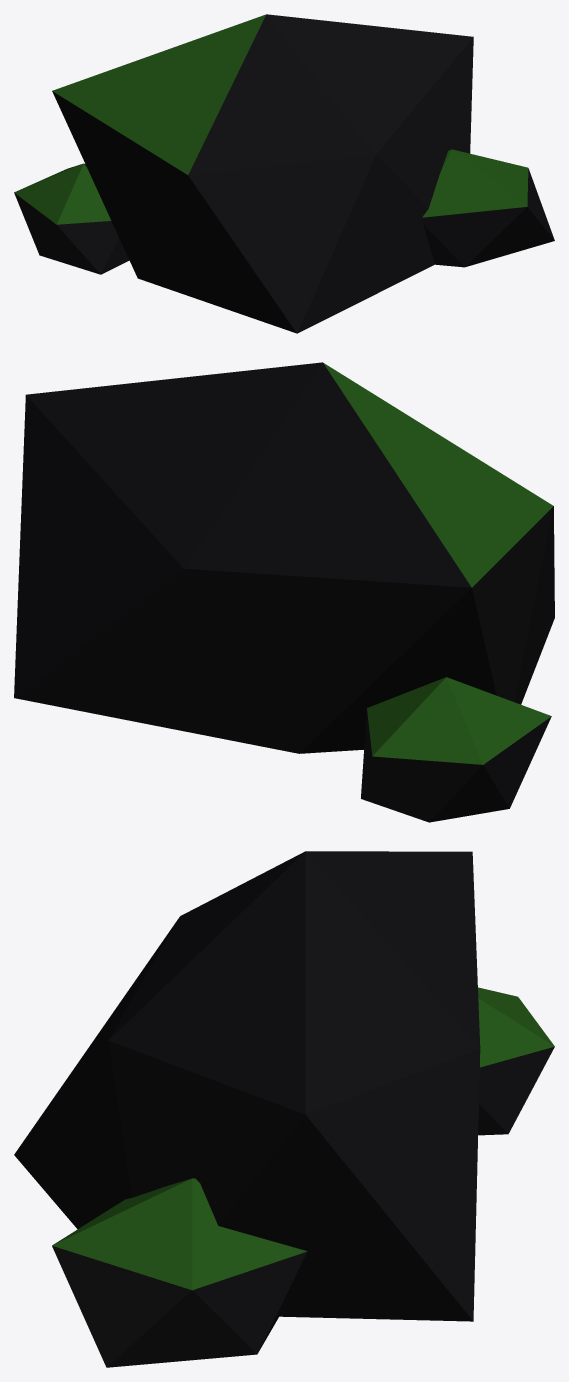
The model's file is boulder.obj.
3 views of the same model, one above another, from view 1: azimuth 30°, elevation 25°; view 2: azimuth 150°, elevation 25°; view 3: azimuth 270°, elevation 25° (orthographic). The views are drawn at different scales.
Visible parts, largest first — view 1: Rock; view 2: Rock; view 3: Rock.
Boxes of the visible parts, x1,y1,x2,y2 form: Rock: (14,14,554,333); Rock: (14,362,554,822); Rock: (14,851,554,1367).
Size of the model in its own units: 11.03 by 6 by 8.35.
